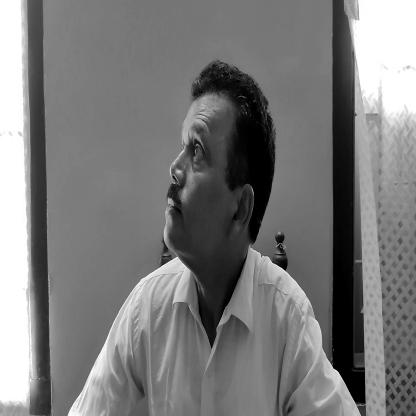Distracted: (152, 61, 274, 282)
